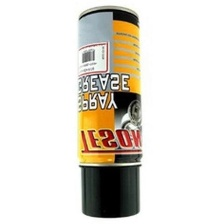aerosol_cans: (73, 3, 146, 220)
